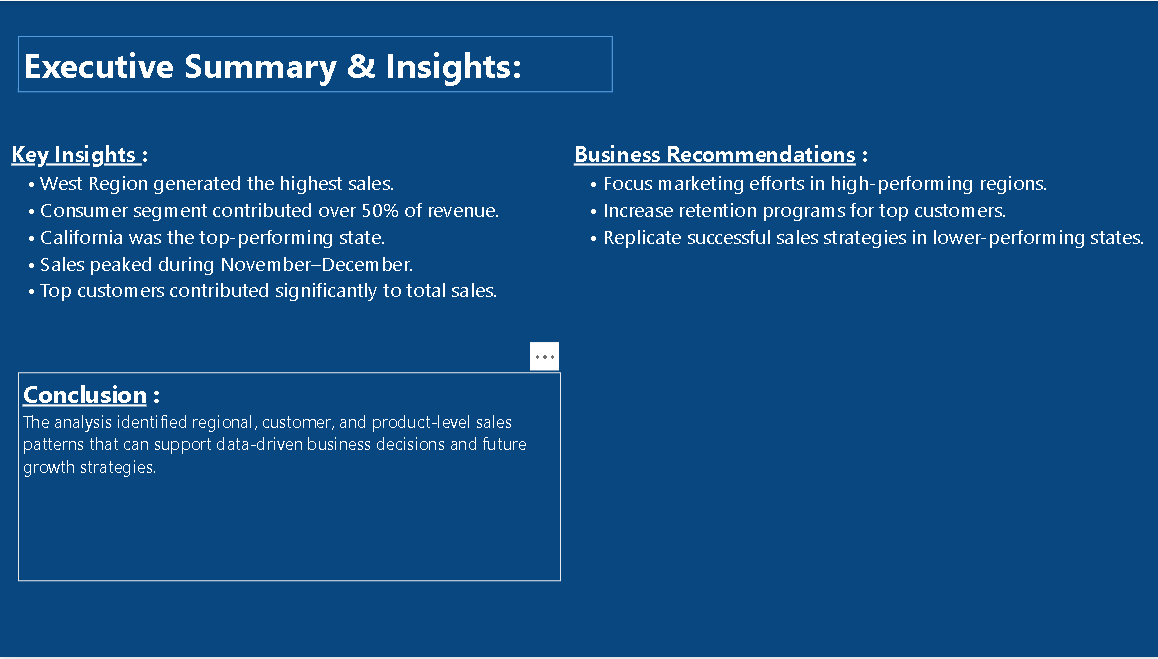

What the dashboard file says about the page in this screenshot:
{"tool":"powerbi","page":{"name":"Executive Summary","canvas":[1280,720],"ordinal":1},"visuals":[{"type":"textbox","box":[22,38.4,653.2,61.7],"z":0},{"type":"textbox","box":[9.6,145.5,653.2,229.2],"z":1000},{"type":"textbox","box":[627.1,145.5,653.2,248.4],"z":2000},{"type":"textbox","box":[22,407.5,595.5,229.2],"z":3000}]}

Visuals, with their boxes in screenshot pixels (x1, y1, x2, y2), scaled from the page's 1280x720 canvas onto the 1158x659 screenshot:
textbox: rect(20, 35, 611, 92)
textbox: rect(9, 133, 600, 343)
textbox: rect(567, 133, 1157, 361)
textbox: rect(20, 373, 559, 583)
